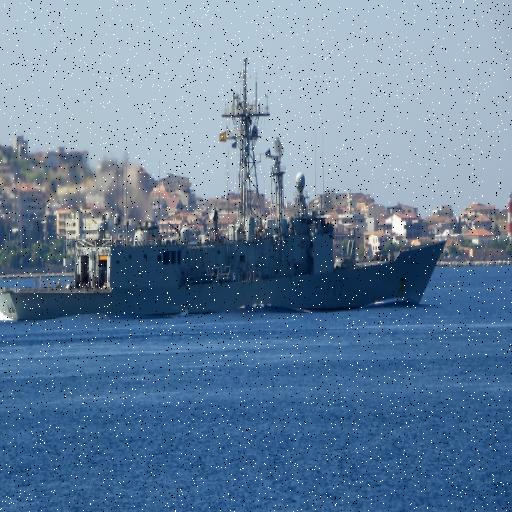Fragata: (1, 57, 449, 331)
